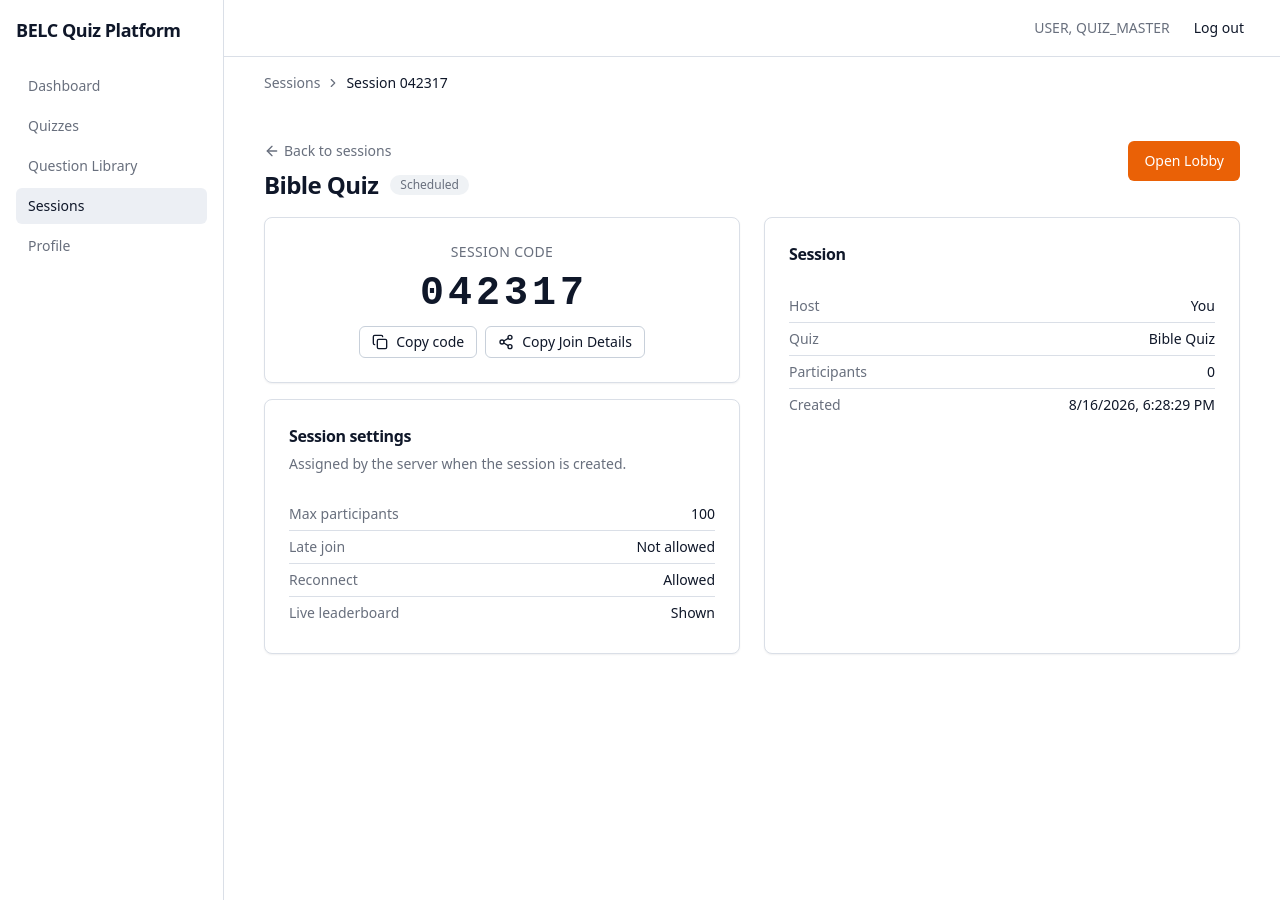
Test: SessionDetailsPage › keeps the host on the page and shows the error when opening the lobby is rejected
Click the button "Open Lobby" at (1184, 161), box [1128,141,1240,181]
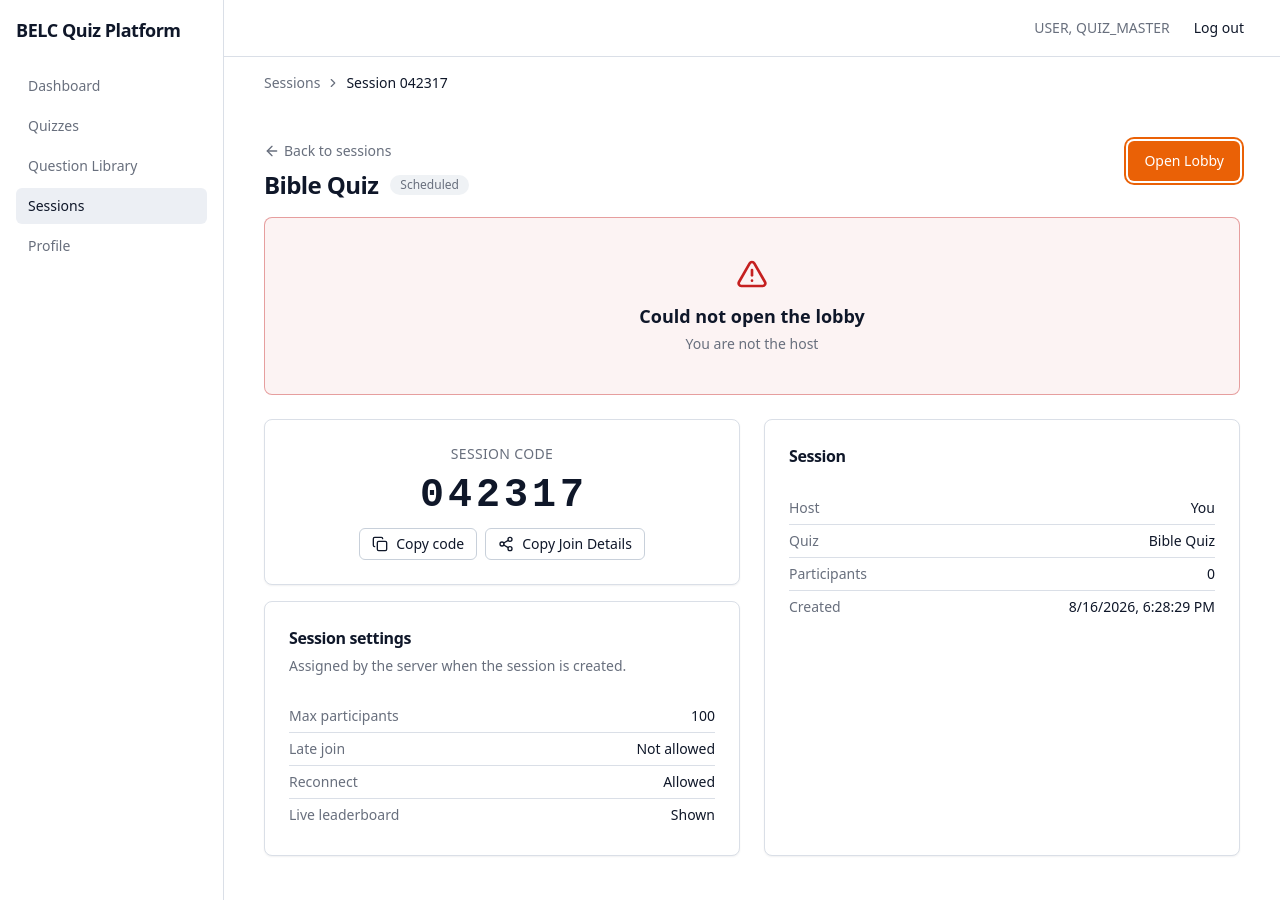
Result: the text "You are not the host" is shown at [686,334,818,354]
